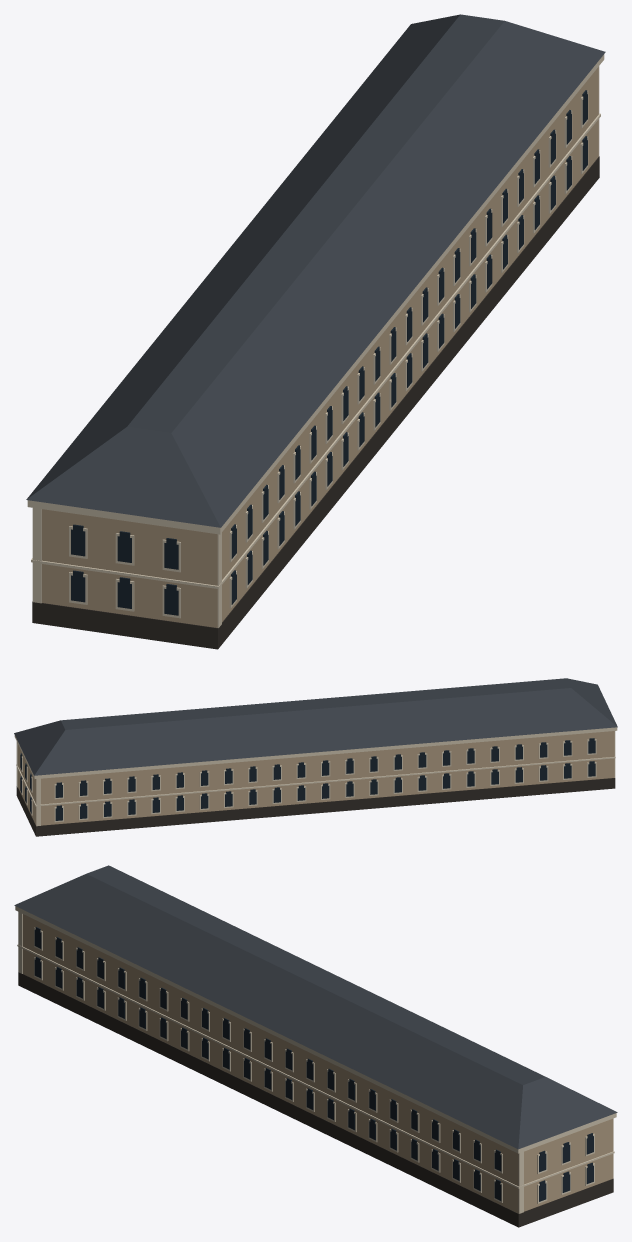
Rendered from kaserne-1.glb.
3 renders of one model, top to bottom at view 1: azimuth 30°, elevation 25°; view 2: azimuth 150°, elevation 25°; view 3: azimuth 270°, elevation 25°, orthographic. The views are drawn at different scales.
Visible parts, largest first — view 1: kaserne-1_lod0; view 2: kaserne-1_lod0; view 3: kaserne-1_lod0.
Part boxes in pixels (bbox=[...]): kaserne-1_lod0: bbox=[26, 14, 605, 649]; kaserne-1_lod0: bbox=[14, 678, 617, 836]; kaserne-1_lod0: bbox=[14, 865, 617, 1227].
Size of what is drawn, in the model's own units: 75.3 by 14.2 by 68.39.
